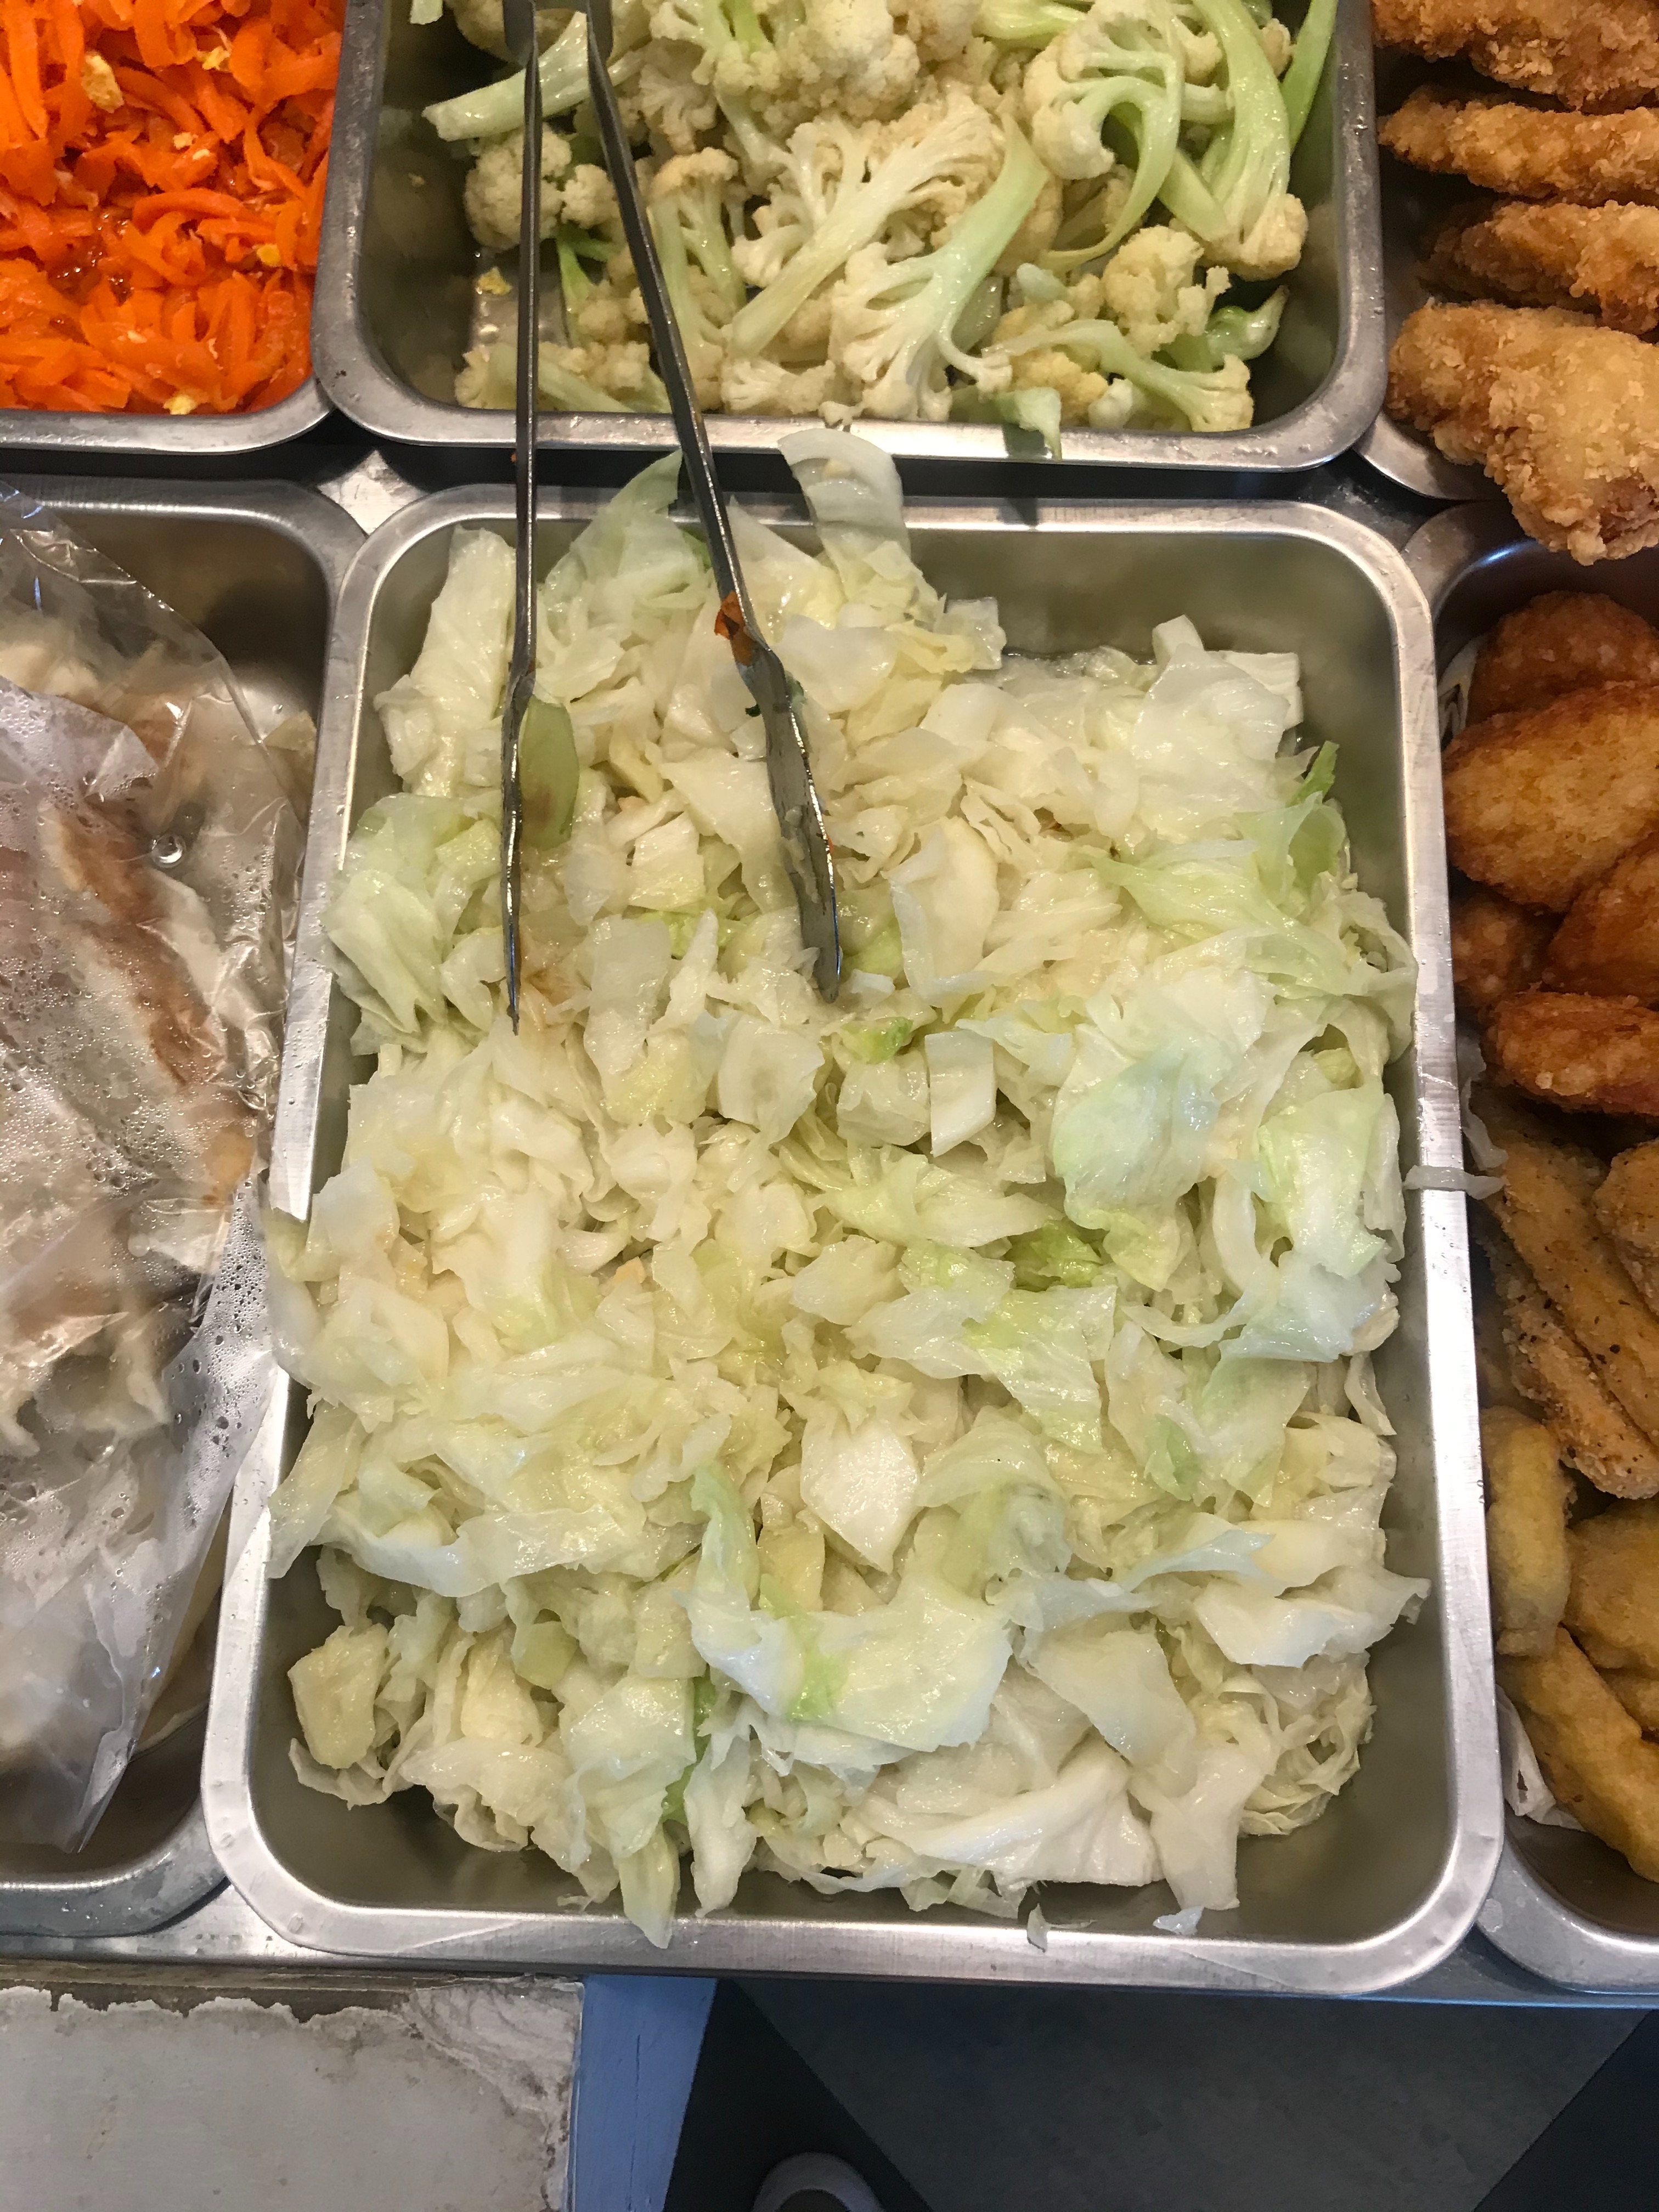carrot_eggs: (0, 0, 321, 406)
chinese_cabbage: (368, 587, 1358, 1869)
triangle_hash_brown: (1462, 578, 1659, 1104)
